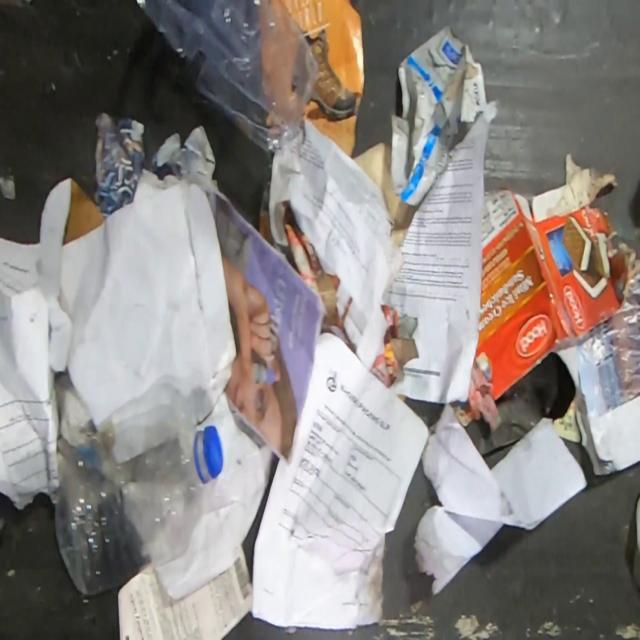cardboard: (474, 151, 640, 401), (390, 22, 487, 208), (63, 179, 106, 245)
rigid_plastic: (54, 402, 223, 596)
soft_plastic: (135, 0, 321, 155)
